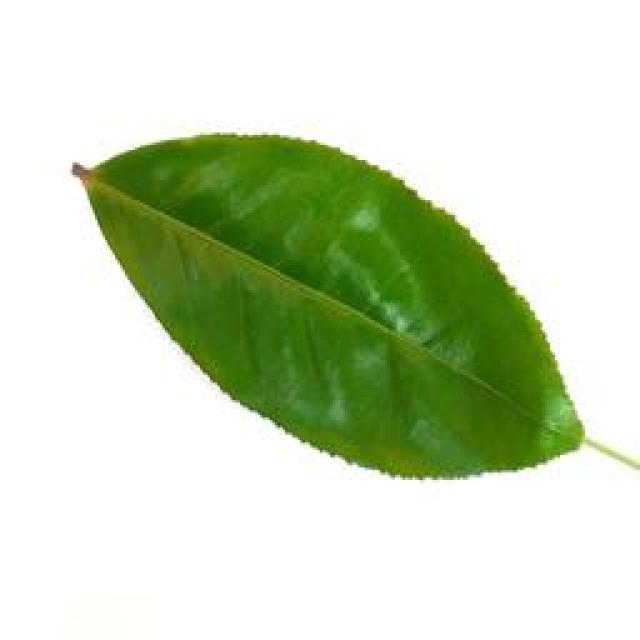Healthy: (61, 128, 598, 490)
